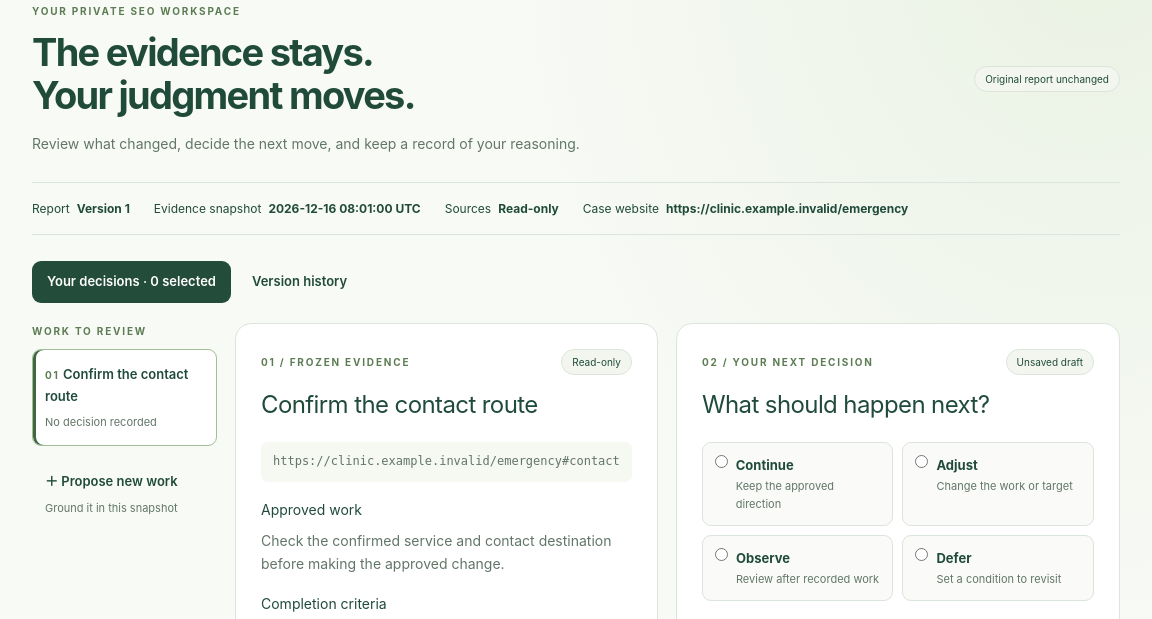
preserves draft on stale head and blocks blind resubmission
This screenshot has width=1152, height=619.
Expected: the heading "What should happen next?" is shown, [702, 390, 989, 419]
Click the radio button labelled "Continue Keep the approved direction".
click(721, 462)  # box [715, 455, 728, 468]
(page scrolled)
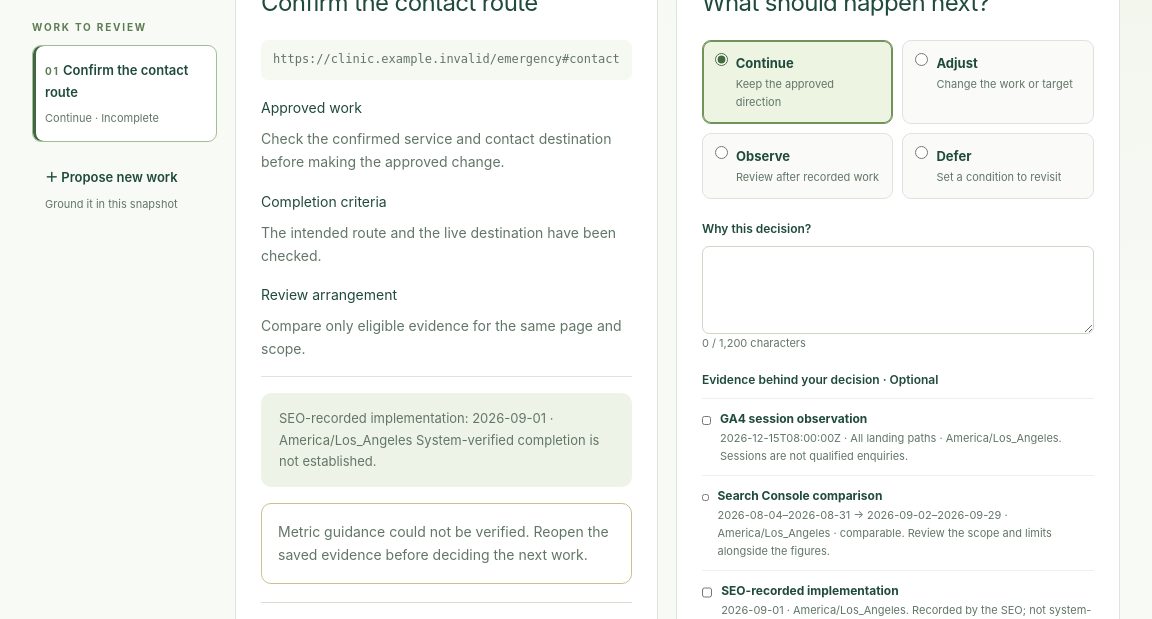
Type "Keep this direction while checking the contact path." into the text box labelled "Why this decision? 0 / 1,200 characters".
click(898, 290); type("Keep this direction while checking the contact path.")  # box [702, 246, 1094, 334]
(page scrolled)
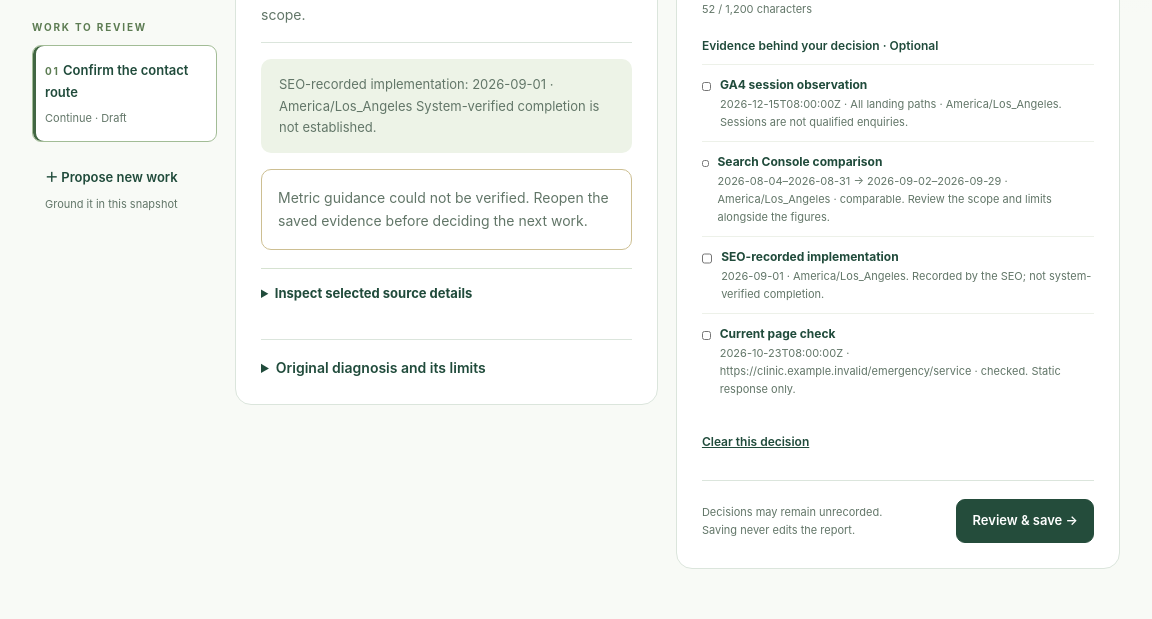
Click the button "Review & save →".
click(1025, 521)  # box [956, 499, 1094, 543]
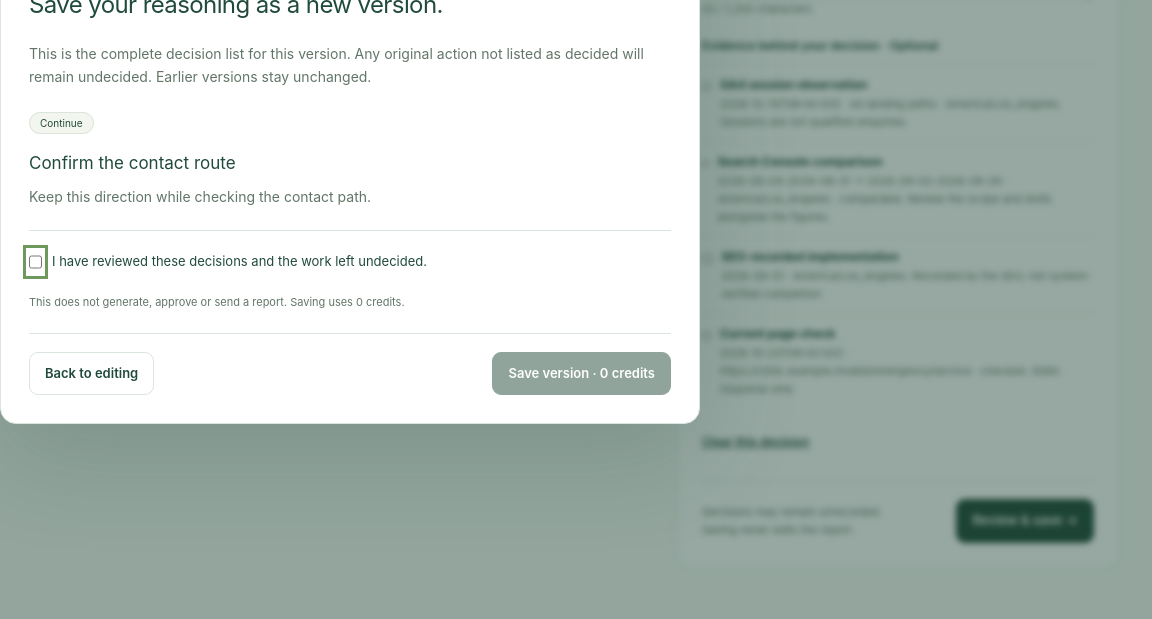
Expected: the button "Save version · 0 credits" is disabled, [492, 352, 671, 395]
Click the checkbox.
click(36, 262)  # box [29, 251, 42, 272]
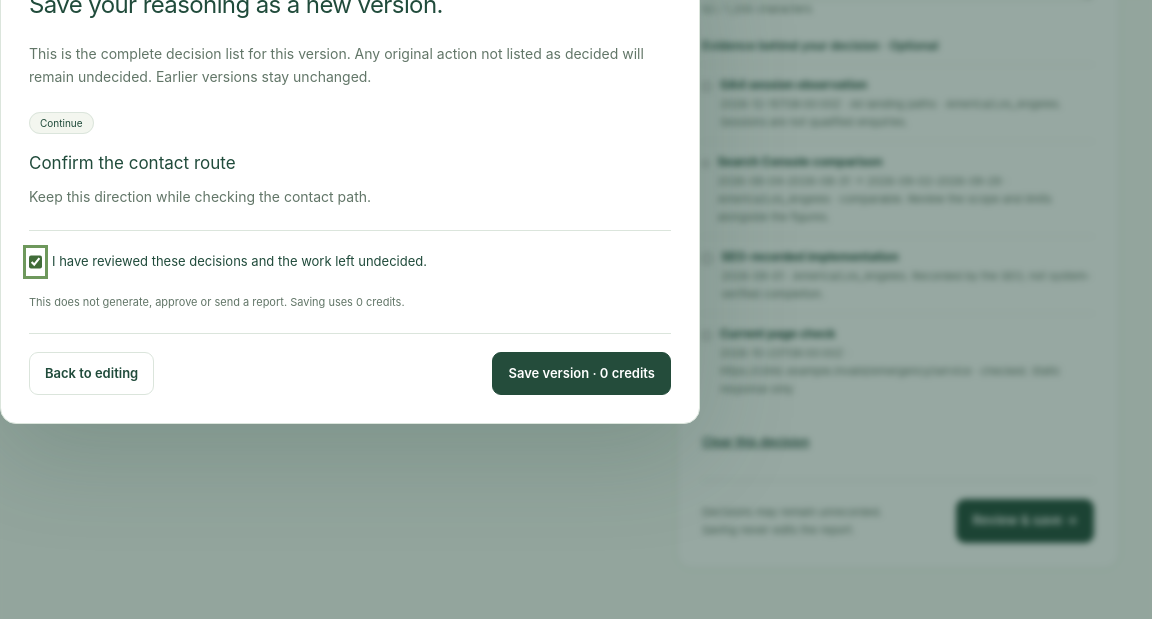
Click the button "Save version · 0 credits".
click(582, 373)  # box [492, 352, 671, 395]
(page scrolled)
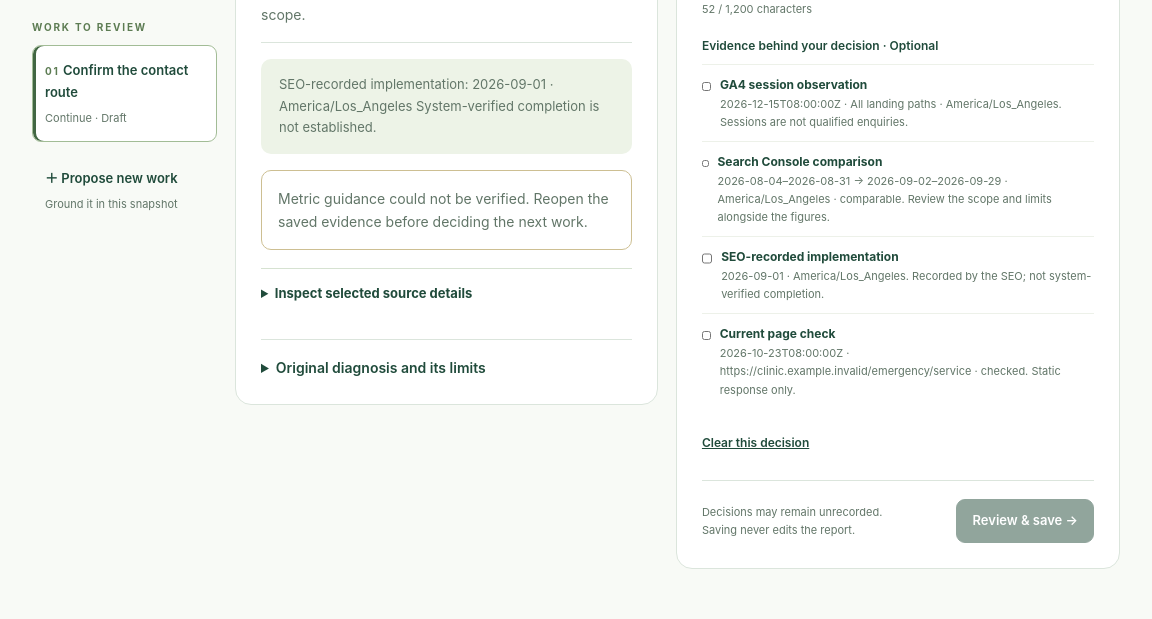
Expected: the button "Review & save →" is disabled, [956, 500, 1094, 543]
